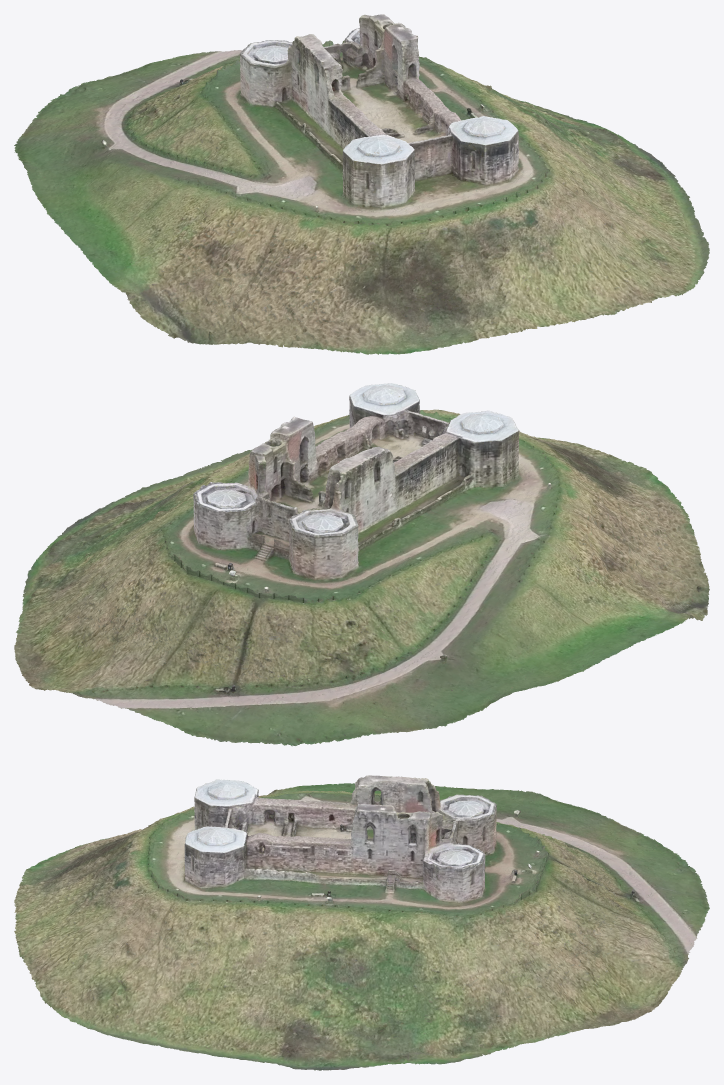
File: castle-frozen.glb
3 views of the same model, one above another, from view 1: azimuth 30°, elevation 25°; view 2: azimuth 150°, elevation 25°; view 3: azimuth 270°, elevation 25° (orthographic). The views are drawn at different scales.
Parts seen in each view (by area): view 1: Object_2; view 2: Object_2; view 3: Object_2.
Boxes of the visible parts, x1,y1,x2,y2 form: Object_2: [14, 14, 709, 354]; Object_2: [14, 383, 709, 746]; Object_2: [14, 775, 709, 1070].
Bounding box in the file's own units: 21.35 × 6.12 × 24.36.
Materials: 1 (1 with a texture image).
